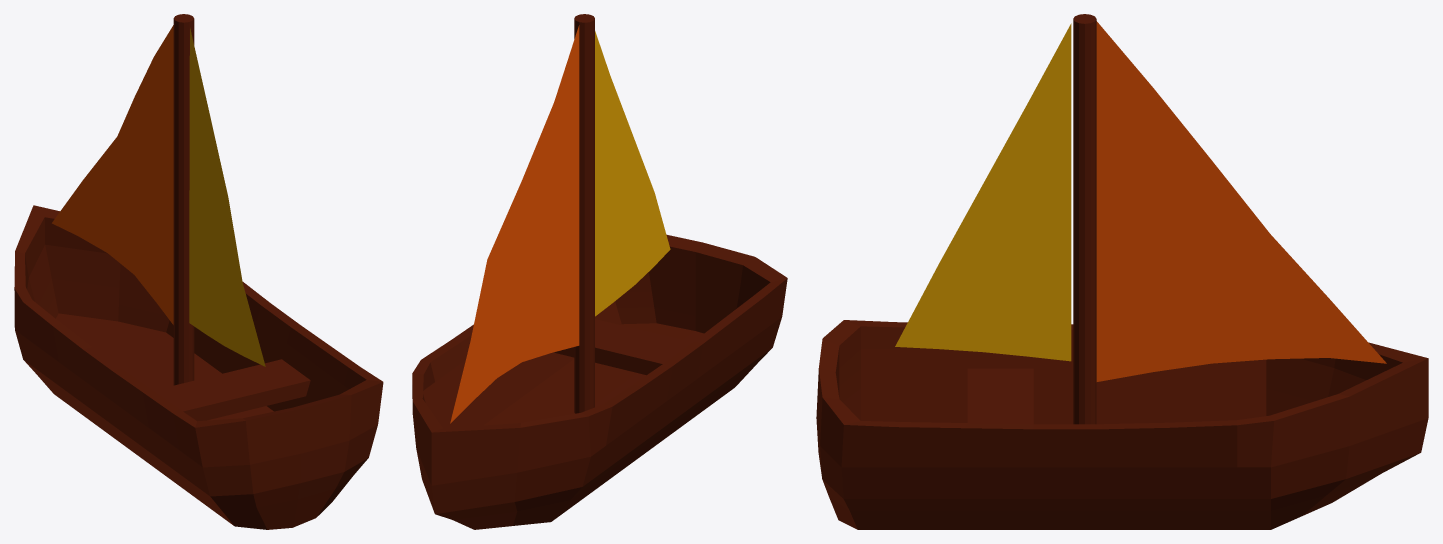
Rendered from boat.fbx.
The picture shows the model from 3 angles, left to right: view 1: azimuth 30°, elevation 25°; view 2: azimuth 150°, elevation 25°; view 3: azimuth 270°, elevation 25°; orthographic projection. The views are drawn at different scales.
Visible parts, largest first — view 1: Cube, Plane, Plane.001, Cylinder; view 2: Cube, Plane, Plane.001, Cylinder; view 3: Cube, Plane, Plane.001, Cylinder.
Part boxes in pixels (x1,y1,x2,y2): Cube: [14, 205, 383, 529]; Plane: [52, 25, 173, 324]; Plane.001: [189, 28, 265, 366]; Cylinder: [173, 14, 194, 385]; Cube: [412, 234, 787, 529]; Plane: [450, 25, 579, 423]; Plane.001: [595, 31, 670, 316]; Cylinder: [574, 14, 594, 413]; Cube: [816, 320, 1428, 529]; Plane: [1096, 21, 1386, 381]; Plane.001: [895, 23, 1071, 361]; Cylinder: [1073, 14, 1096, 424].
Bounding box in the file's own units: 238 × 519 × 587.
